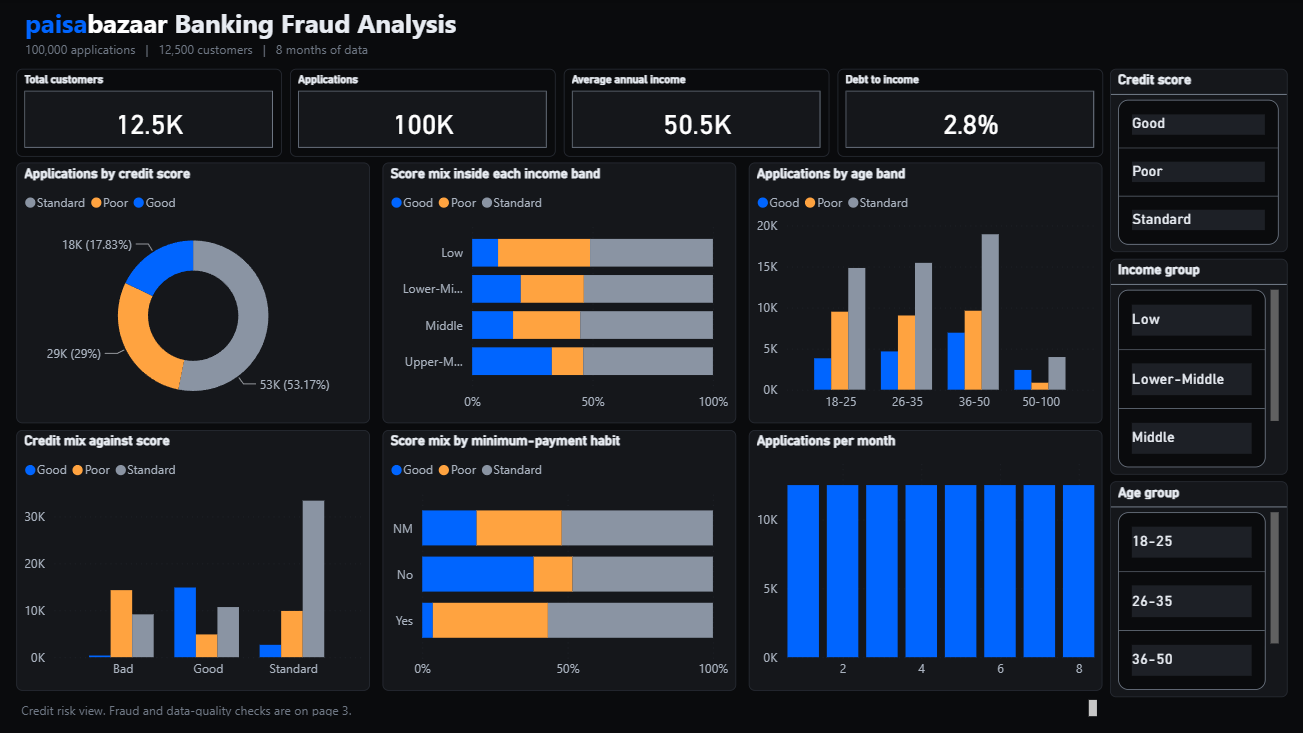

What the dashboard file says about the page in this screenshot:
{"tool":"powerbi","page":{"name":"Overview","canvas":[1280,720],"ordinal":0},"visuals":[{"type":"shape","box":[0,0,6,56],"z":0},{"type":"textbox","box":[20,0,890,66],"z":100},{"type":"textbox","box":[16,682,1066,26],"z":300},{"type":"cardVisual","title":"Total customers","fields":{"Data":["dataset.Total_Customers"]},"box":[16,68,260.5,86],"z":1000},{"type":"cardVisual","title":"Applications","fields":{"Data":["dataset.Total_Applications"]},"box":[284.5,68,260.5,86],"z":1100},{"type":"cardVisual","title":"Average annual income","fields":{"Data":["dataset.Avg_Annual_Income"]},"box":[553,68,260.5,86],"z":1200},{"type":"cardVisual","title":"Debt to income","fields":{"Data":["dataset.Debt_to_income_ratio"]},"box":[821.5,68,260.5,86],"z":1300},{"type":"donutChart","title":"Applications by credit score","fields":{"Category":["dataset.Credit_Score"],"Y":["CountNonNull(dataset.Customer_ID)"]},"box":[16,160,347.3,256],"z":2000},{"type":"hundredPercentStackedBarChart","title":"Score mix inside each income band","fields":{"Category":["dataset.Income Group"],"Series":["dataset.Credit_Score"],"Y":["CountNonNull(dataset.Customer_ID)"]},"box":[375.3,160,347.3,256],"z":3000},{"type":"clusteredColumnChart","title":"Applications by age band","fields":{"Y":["CountNonNull(dataset.Customer_ID)"],"Category":["dataset.Age Group"],"Series":["dataset.Credit_Score"]},"box":[734.7,160,347.3,256],"z":4000},{"type":"clusteredColumnChart","title":"Credit mix against score","fields":{"Y":["CountNonNull(dataset.Customer_ID)"],"Category":["dataset.Credit_Mix"],"Series":["dataset.Credit_Score"]},"box":[16,422,347.3,256],"z":5000},{"type":"hundredPercentStackedBarChart","title":"Score mix by minimum-payment habit","fields":{"Category":["dataset.Payment_of_Min_Amount"],"Series":["dataset.Credit_Score"],"Y":["CountNonNull(dataset.Customer_ID)"]},"box":[375.3,422,347.3,256],"z":6000},{"type":"clusteredColumnChart","title":"Applications per month","fields":{"Y":["CountNonNull(dataset.Customer_ID)"],"Category":["dataset.Month"]},"box":[734.7,422,347.3,256],"z":7000},{"type":"advancedSlicerVisual","title":"Credit score","fields":{"Values":["dataset.Credit_Score"]},"box":[1090,68,174,180],"z":8000},{"type":"advancedSlicerVisual","title":"Income group","fields":{"Values":["dataset.Income Group"]},"box":[1090,254,174,212],"z":9000},{"type":"advancedSlicerVisual","title":"Age group","fields":{"Values":["dataset.Age Group"]},"box":[1090,472,174,212],"z":10000}]}

Visuals, with their boxes in screenshot pixels (x1, y1, x2, y2), scaled from the page's 1280x720 canvas onto the 1303x733 screenshot:
shape: locate(0, 0, 6, 57)
textbox: locate(20, 0, 926, 67)
textbox: locate(16, 694, 1101, 721)
"Total customers" cardVisual: locate(16, 69, 281, 157)
"Applications" cardVisual: locate(290, 69, 555, 157)
"Average annual income" cardVisual: locate(563, 69, 828, 157)
"Debt to income" cardVisual: locate(836, 69, 1101, 157)
"Applications by credit score" donutChart: locate(16, 163, 370, 424)
"Score mix inside each income band" hundredPercentStackedBarChart: locate(382, 163, 736, 424)
"Applications by age band" clusteredColumnChart: locate(748, 163, 1101, 424)
"Credit mix against score" clusteredColumnChart: locate(16, 430, 370, 690)
"Score mix by minimum-payment habit" hundredPercentStackedBarChart: locate(382, 430, 736, 690)
"Applications per month" clusteredColumnChart: locate(748, 430, 1101, 690)
"Credit score" advancedSlicerVisual: locate(1110, 69, 1287, 252)
"Income group" advancedSlicerVisual: locate(1110, 259, 1287, 474)
"Age group" advancedSlicerVisual: locate(1110, 481, 1287, 696)
